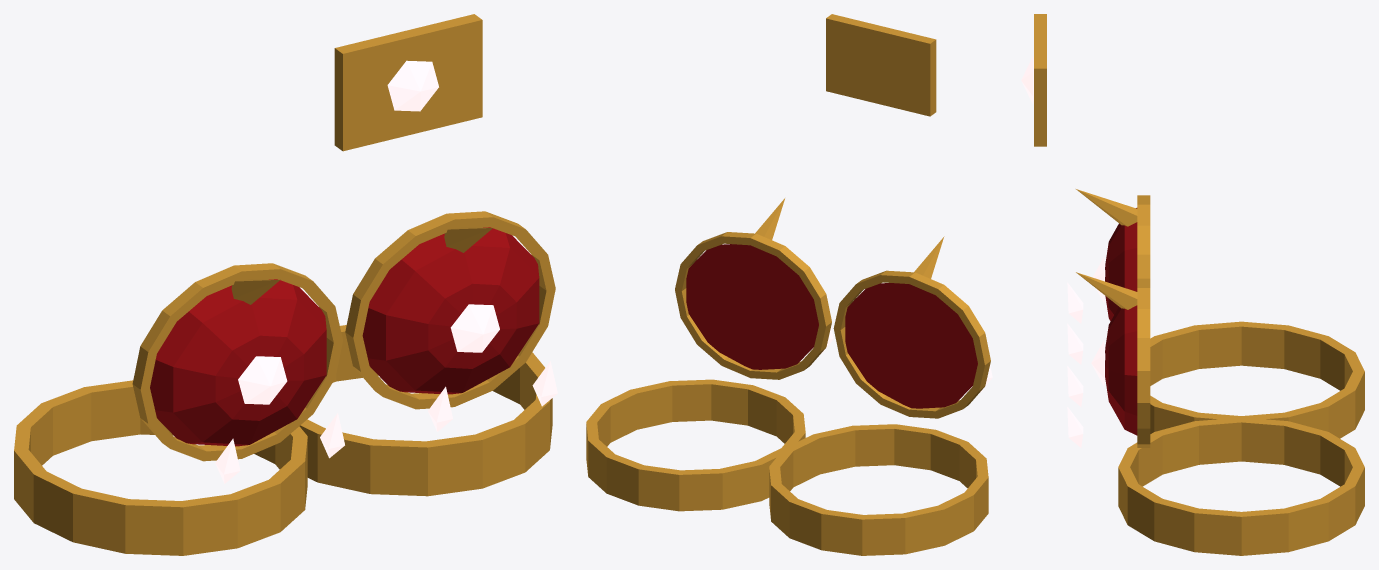
File: armor_knight_legs_mythic_orc.glb
3 renders of one model, left to right at view 1: azimuth 30°, elevation 25°; view 2: azimuth 150°, elevation 25°; view 3: azimuth 270°, elevation 25°, orthographic. The views are drawn at different scales.
Visible parts, largest first — view 1: armor_knight_legs_mythic_orc__calf_r, armor_knight_legs_mythic_orc__calf_l, armor_knight_legs_mythic_orc__pelvis; view 2: armor_knight_legs_mythic_orc__calf_r, armor_knight_legs_mythic_orc__calf_l, armor_knight_legs_mythic_orc__pelvis; view 3: armor_knight_legs_mythic_orc__calf_l, armor_knight_legs_mythic_orc__calf_r, armor_knight_legs_mythic_orc__pelvis.
Part boxes in pixels (x1,y1,x2,y2): armor_knight_legs_mythic_orc__calf_r: (14,263,344,555); armor_knight_legs_mythic_orc__calf_l: (299,211,557,496); armor_knight_legs_mythic_orc__pelvis: (334,14,482,151); armor_knight_legs_mythic_orc__calf_r: (769,236,992,555); armor_knight_legs_mythic_orc__calf_l: (586,198,833,511); armor_knight_legs_mythic_orc__pelvis: (826,14,936,116); armor_knight_legs_mythic_orc__calf_l: (1067,272,1364,555); armor_knight_legs_mythic_orc__calf_r: (1067,189,1364,438); armor_knight_legs_mythic_orc__pelvis: (1021,14,1046,146).
Size of the model in its own units: 42.88 by 42.7 by 31.89.
